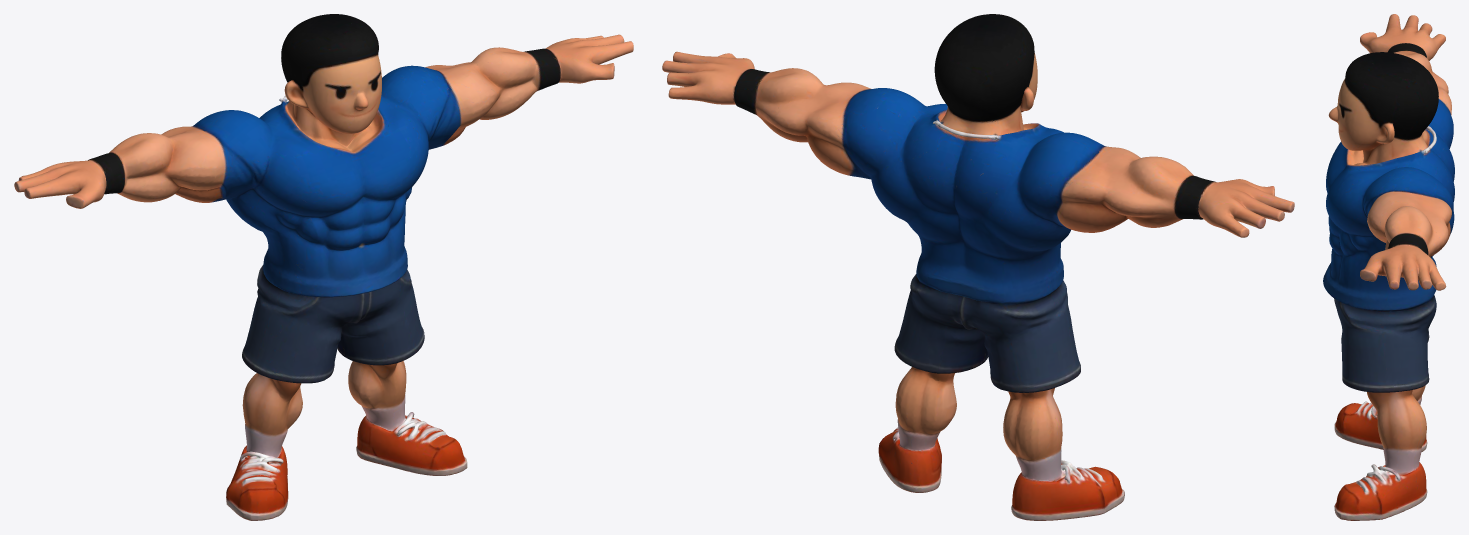
The model's file is FullBody.glb.
3 views of the same model, side by side, from view 1: azimuth 30°, elevation 25°; view 2: azimuth 150°, elevation 25°; view 3: azimuth 270°, elevation 25° (orthographic). The views are drawn at different scales.
Parts seen in each view (by area): view 1: geometry_0; view 2: geometry_0; view 3: geometry_0.
Part boxes in pixels (x1=…): geometry_0: x1=14, y1=14, x2=633, y2=520; geometry_0: x1=662, y1=14, x2=1294, y2=520; geometry_0: x1=1323, y1=14, x2=1454, y2=520.
Bounding box in the file's own units: 2.77 × 2 × 0.5775.
1 material, 1 textured.
